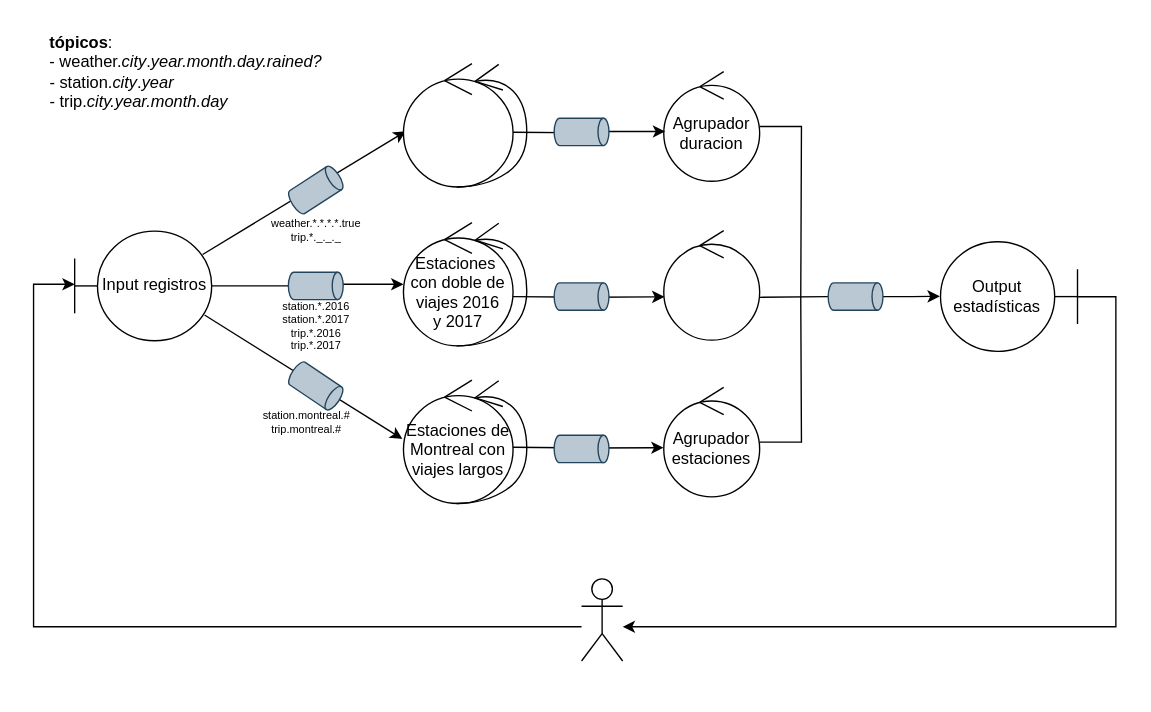
This 1151x712 diagram has some shape labels left out. Each missing label, with the centre of its shape:
Agrupador viajes: the point at 711,284
Duración promedio con lluvia: the point at 457,124
User: the point at 601,619
